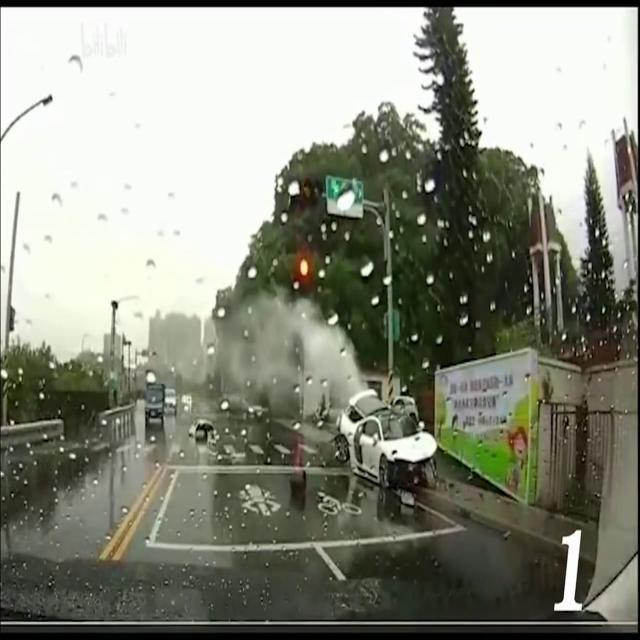single accident: (330, 363, 477, 533)
